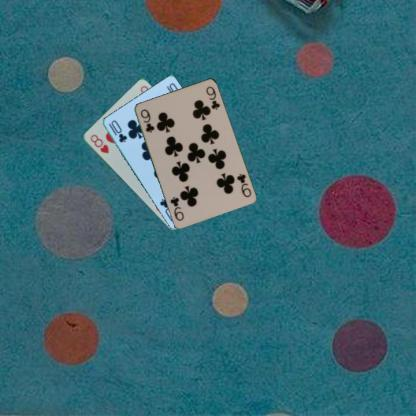10c: (106, 117, 128, 144)
8h: (88, 132, 110, 154)
9c: (234, 170, 252, 199), (138, 106, 156, 134)
